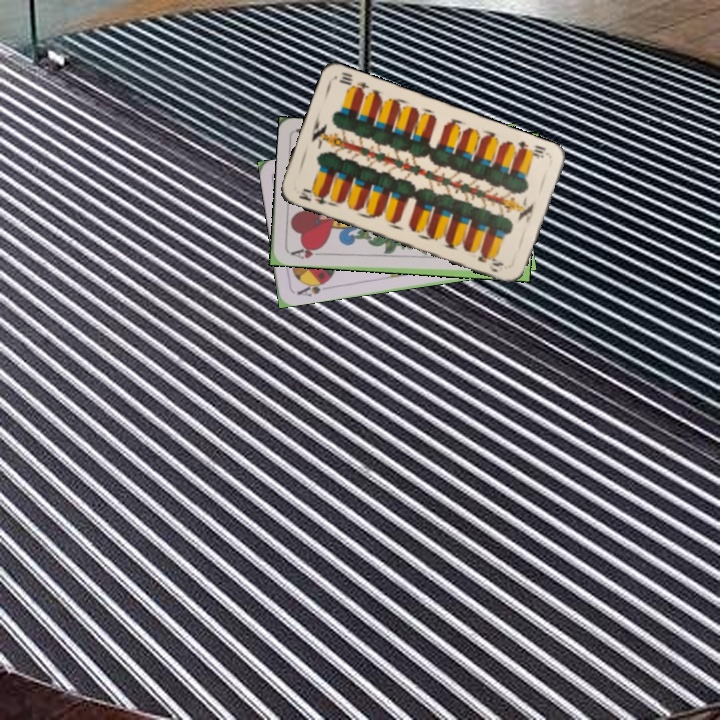E10: (295, 184, 334, 207), (514, 137, 548, 161)
HA: (285, 243, 326, 262)
SA: (293, 276, 332, 299)
